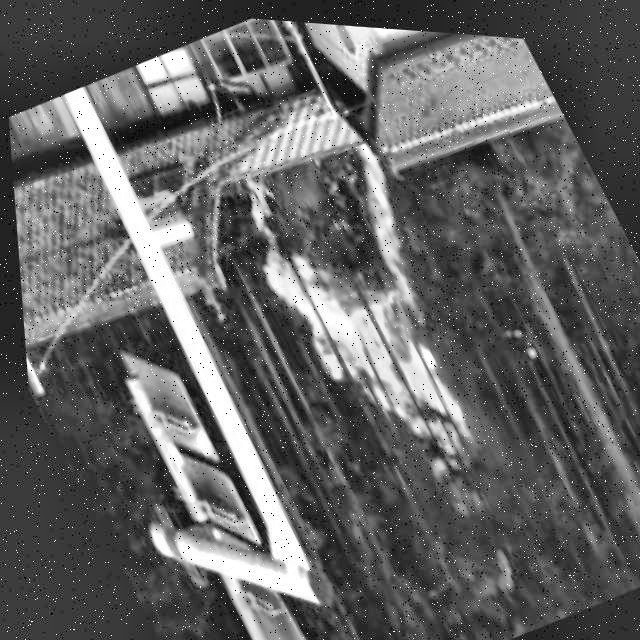Fire: (214, 126, 509, 501)
